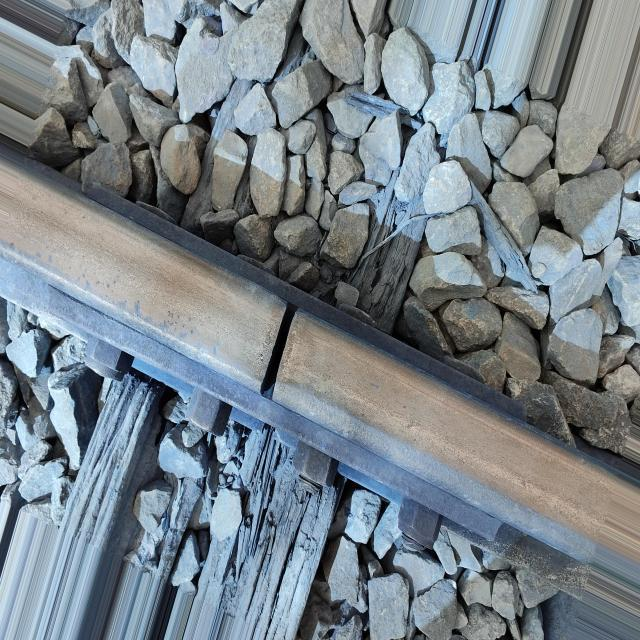Good Joint: (0, 161, 614, 597)
